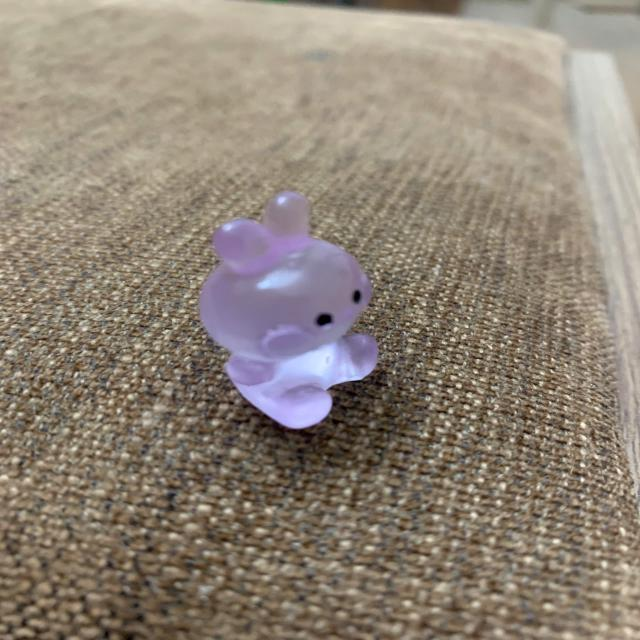Teddy: (197, 190, 379, 430)
